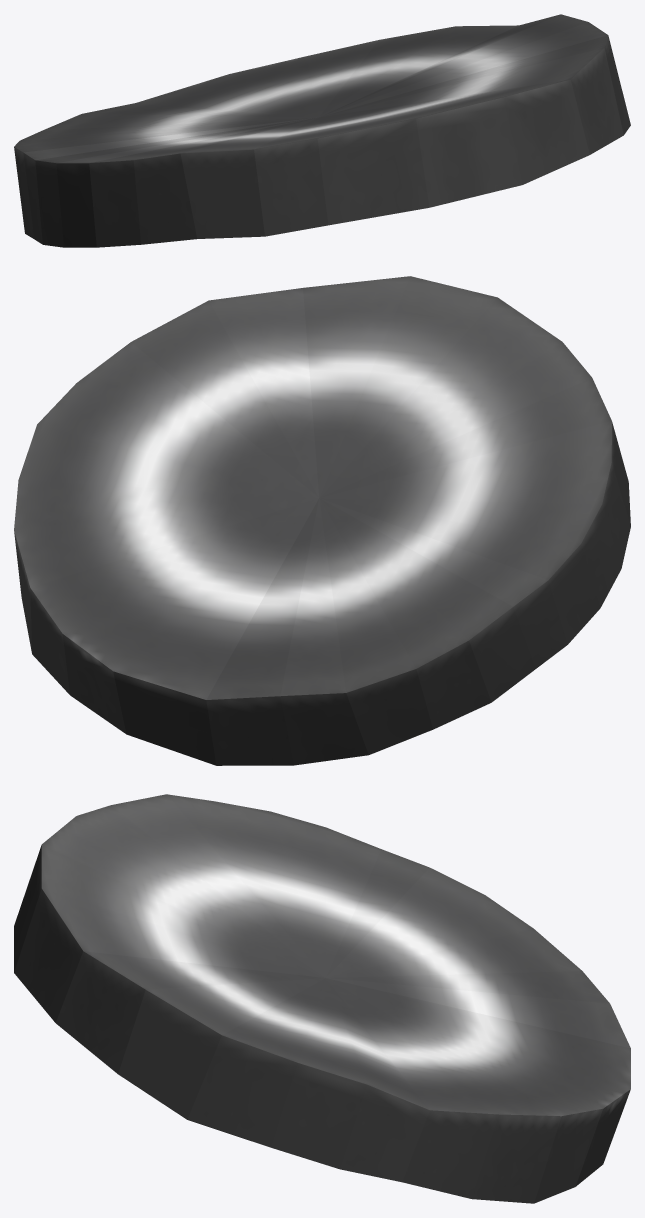
The model's file is YVR_d3_right_home.obj.
3 renders of one model, top to bottom at view 1: azimuth 30°, elevation 25°; view 2: azimuth 150°, elevation 25°; view 3: azimuth 270°, elevation 25°, orthographic. The views are drawn at different scales.
Parts seen in each view (by area): view 1: yvr_d3_right_home; view 2: yvr_d3_right_home; view 3: yvr_d3_right_home.
Part boxes in pixels (x1,y1,x2,y2): yvr_d3_right_home: (14, 14, 630, 247); yvr_d3_right_home: (14, 276, 630, 765); yvr_d3_right_home: (14, 794, 630, 1203).
Size of the model in its own units: 0.0092 by 0.0044 by 0.0089.
1 material, 1 textured.
